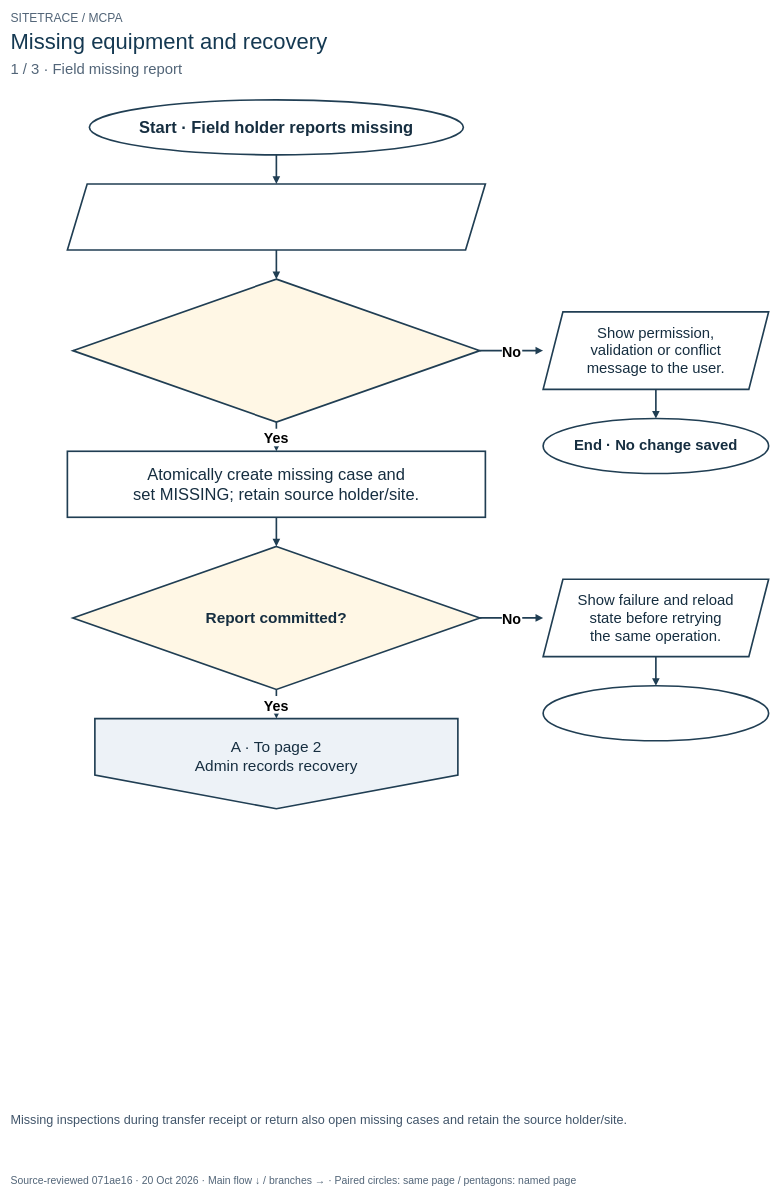
This 779x1198 diagram has some shape labels left out. The centre of each missing label's shape, as x and y in pixels:
"Actor, held asset and notes valid?" goes at pixel 276 350.
"End · No report saved" goes at pixel 655 713.
"Select own eligible IN_USE equipment and enter required missing notes." goes at pixel 276 217.
